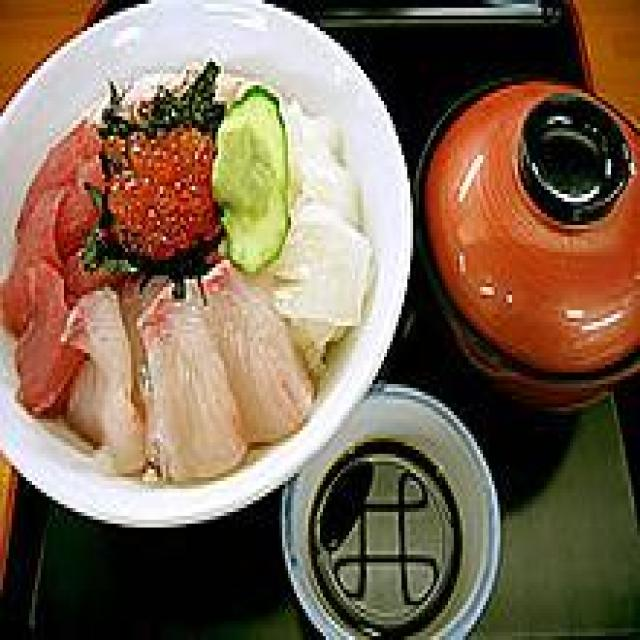刺身生食: (0, 0, 419, 528)
